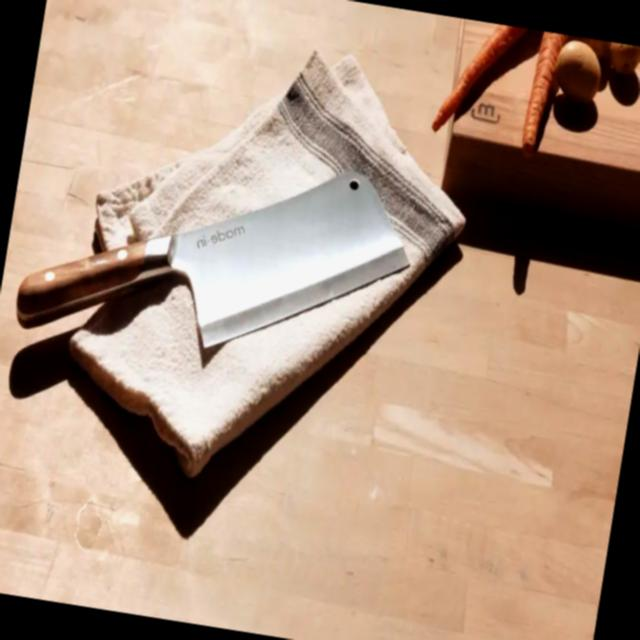cleaver: (6, 117, 422, 406)
